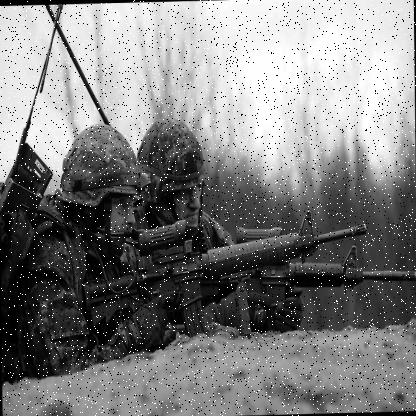rifle: (85, 225, 367, 349)
